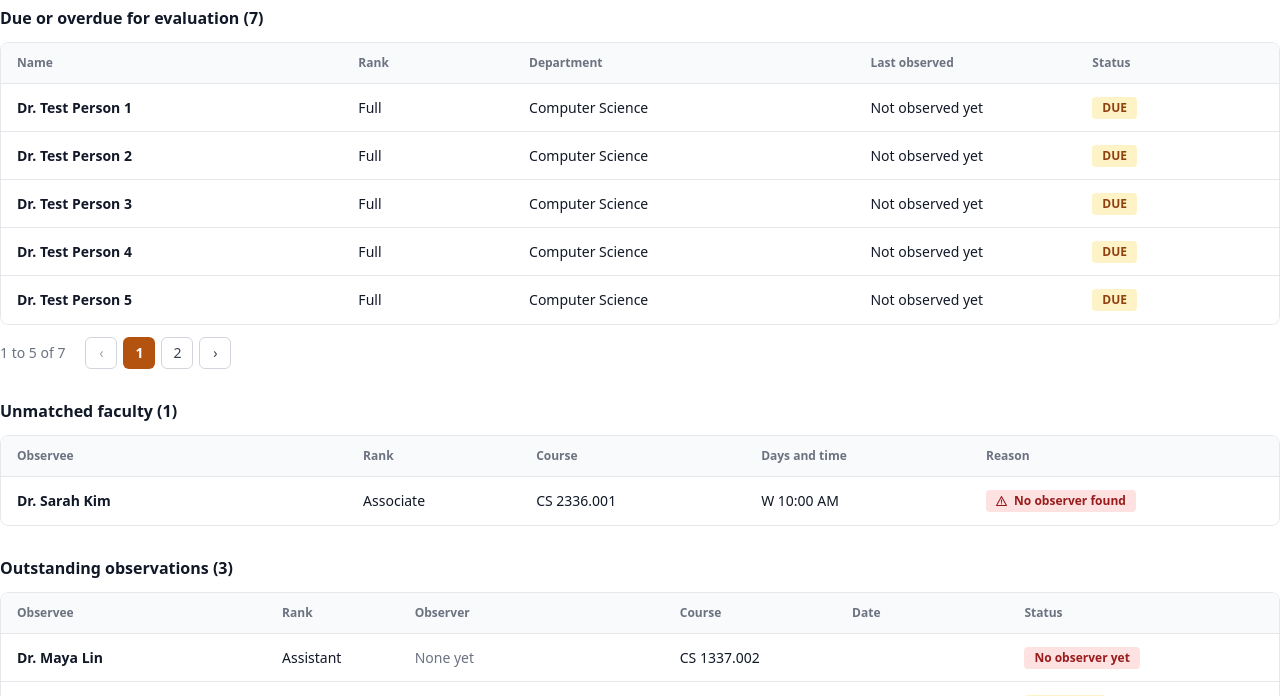
Test: Committee dashboard detail sections › pages a long list five rows at a time
(page scrolled)
Expected: the text "Dr. Test Person 5" is shown, [17,290,132,309]
Expected: the text "Dr. Test Person 6" is not shown
Click the button named "Next page": [215, 353] box [199,337,231,369]
(page scrolled)
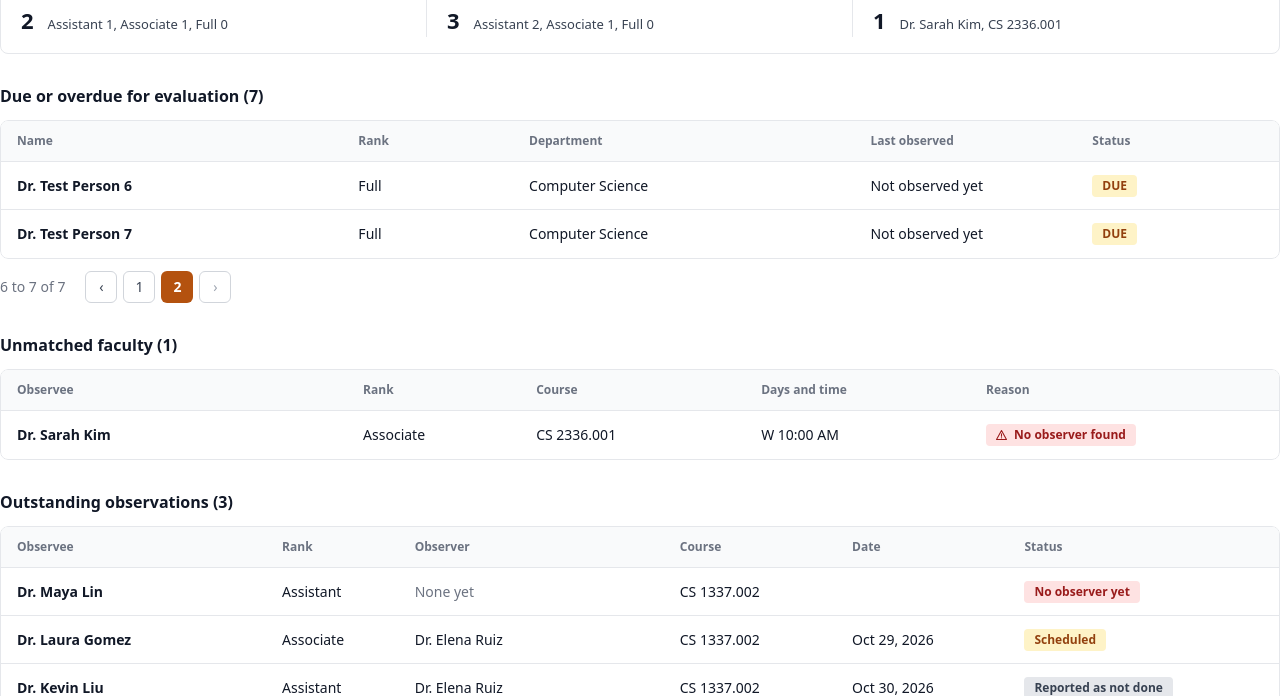
Expected: the text "Dr. Test Person 7" is shown, [17,224,132,243]
Expected: the text "6 to 7 of 7" is shown, [0,277,65,297]
